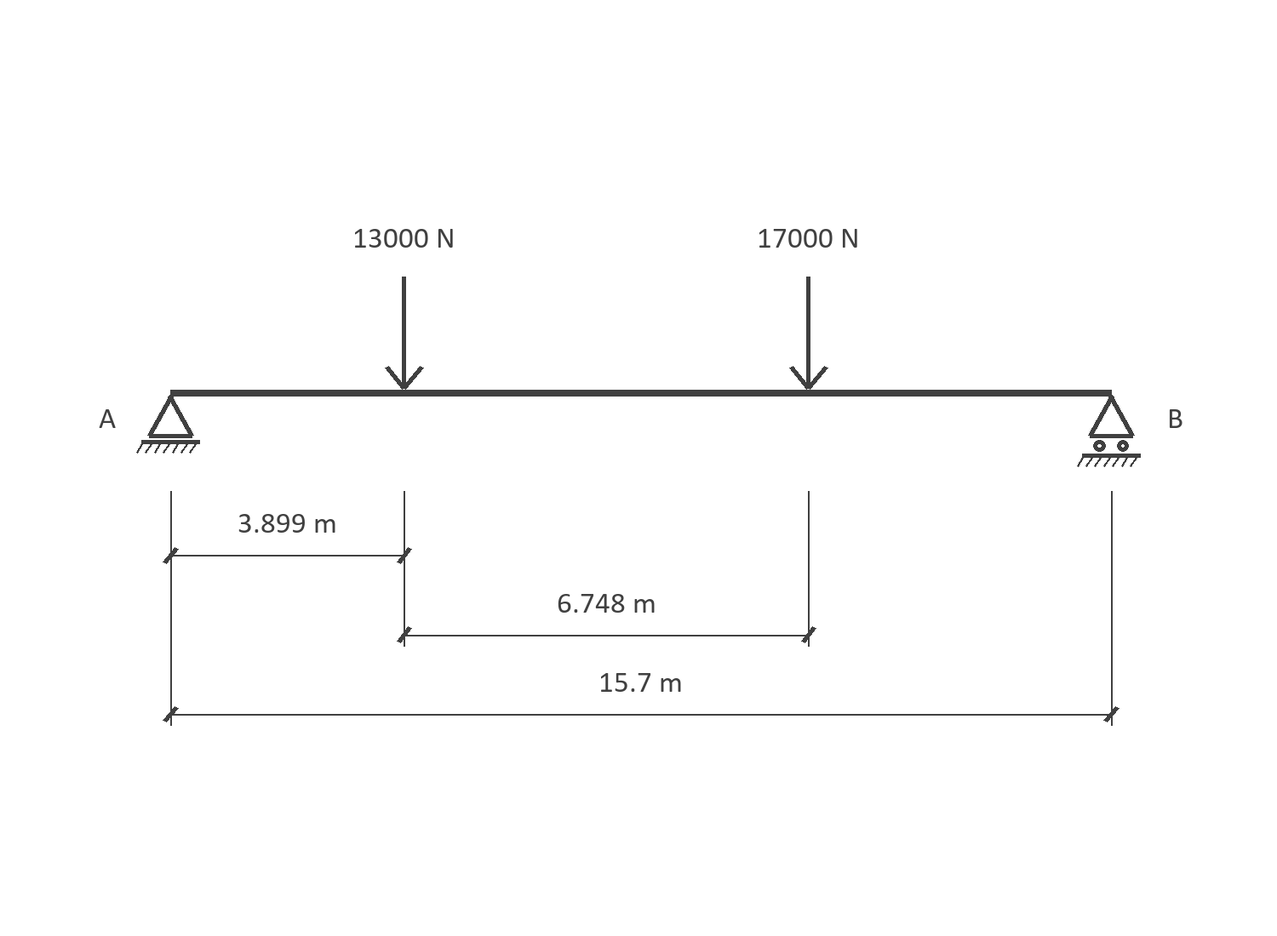pin_support: (136, 395, 200, 454)
point_load: (385, 277, 424, 390), (789, 277, 828, 390)
roller_support: (1077, 395, 1141, 467)
